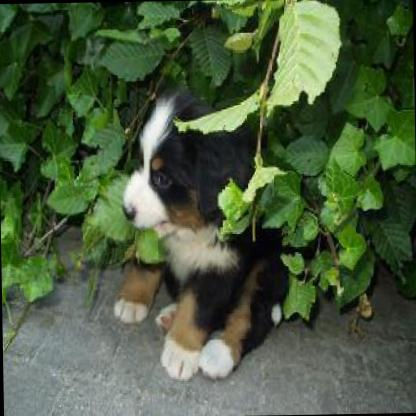Bernese_mountain_dog: (104, 82, 292, 383)
